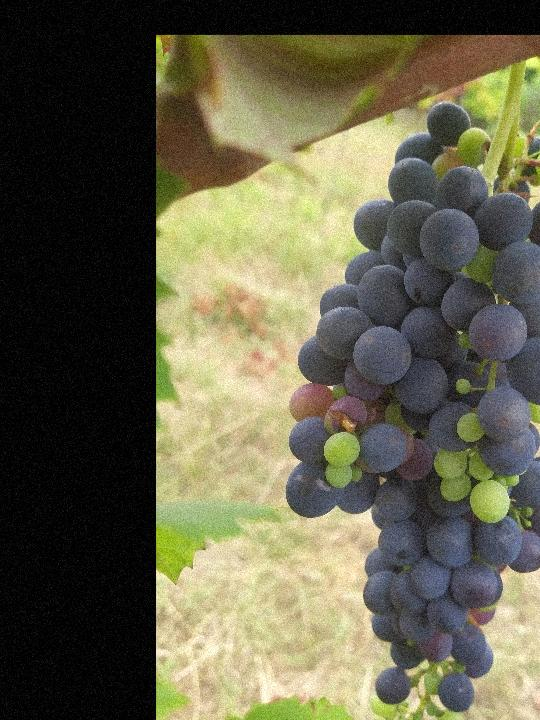grape: (285, 100, 540, 720)
